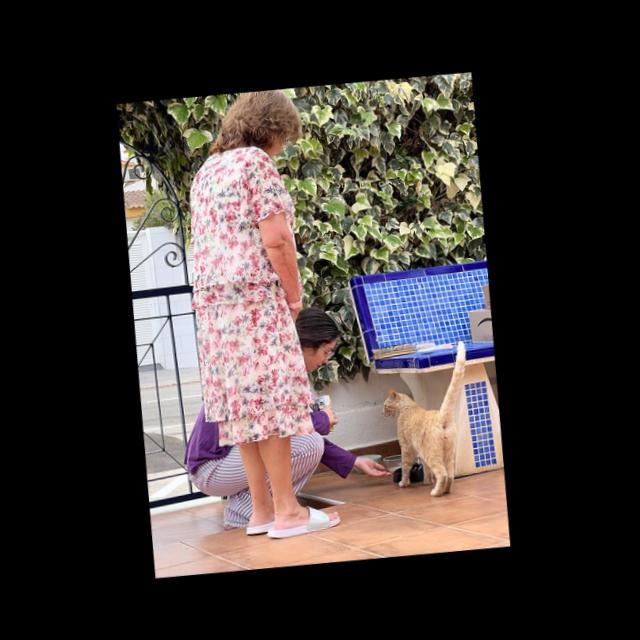animals: (373, 339, 482, 500)
